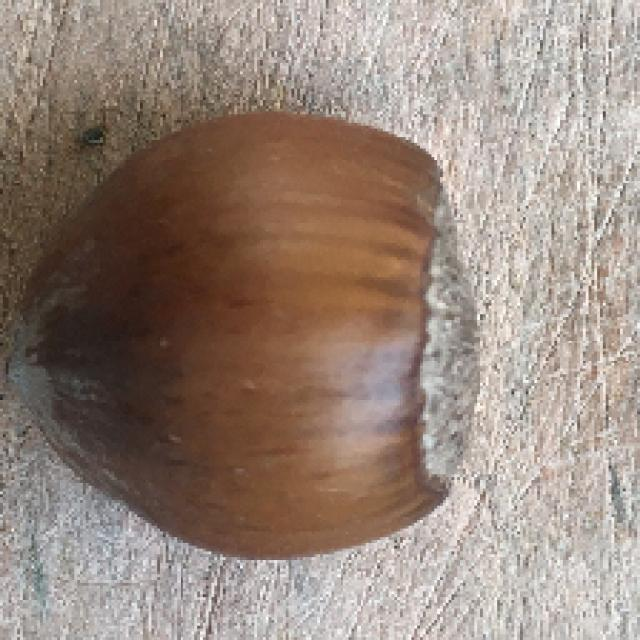damagedHazelnut: (5, 114, 485, 564)
